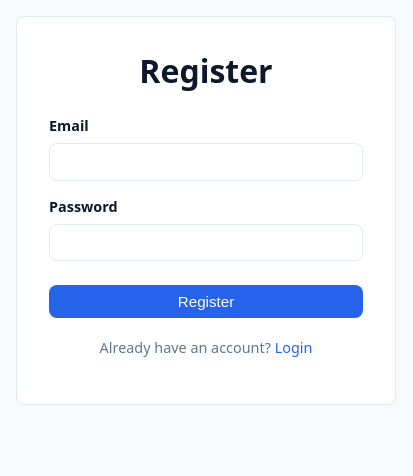
Test case: Register page › shows field-level validation errors when present
The image size is (413, 476).
Type "bad@example.com" into the field labelled "Email" at (206, 162), box x1=49 y1=143 x2=363 y2=181
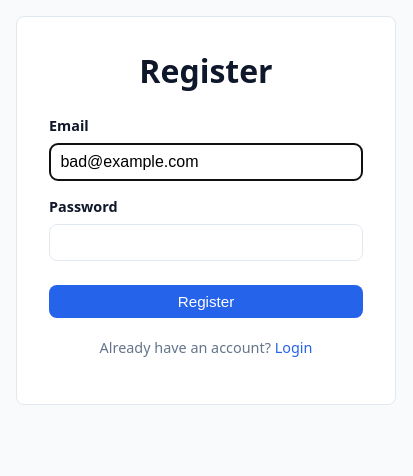
Type "123" into the password field labelled "Password" at (206, 242), box x1=49 y1=224 x2=363 y2=261
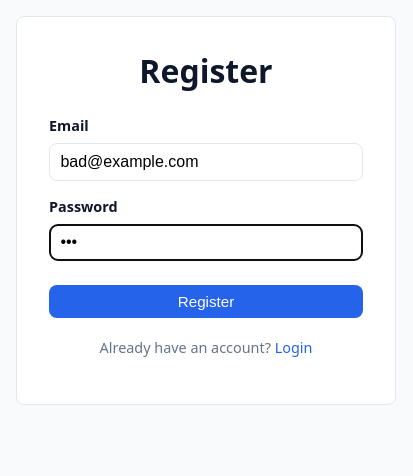
Click the button "Register" at (206, 302), box x1=49 y1=285 x2=363 y2=318
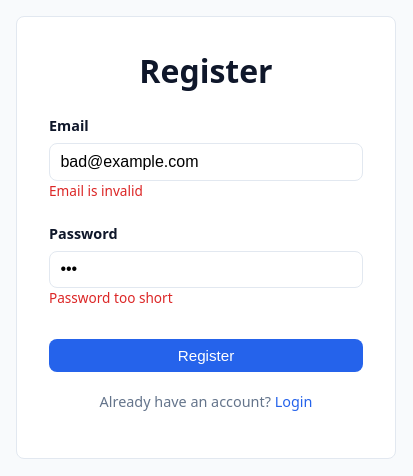
Result: the text "Email is invalid" is shown at x1=49 y1=181 x2=143 y2=200
Result: the text "Password too short" is shown at x1=49 y1=288 x2=173 y2=307
